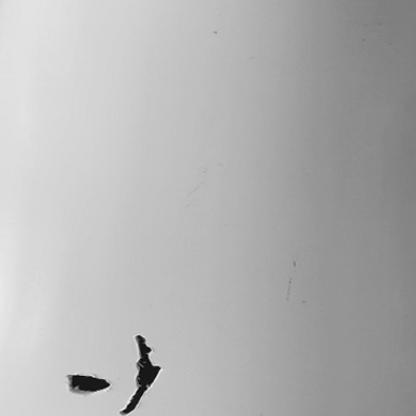kongdong: (121, 332, 161, 416), (64, 373, 113, 396)
